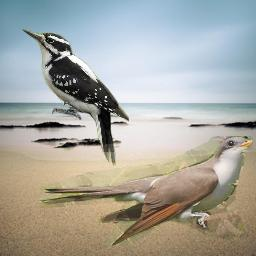Cuckoo: (39, 136, 253, 246)
Woodpecker: (21, 25, 129, 167)
